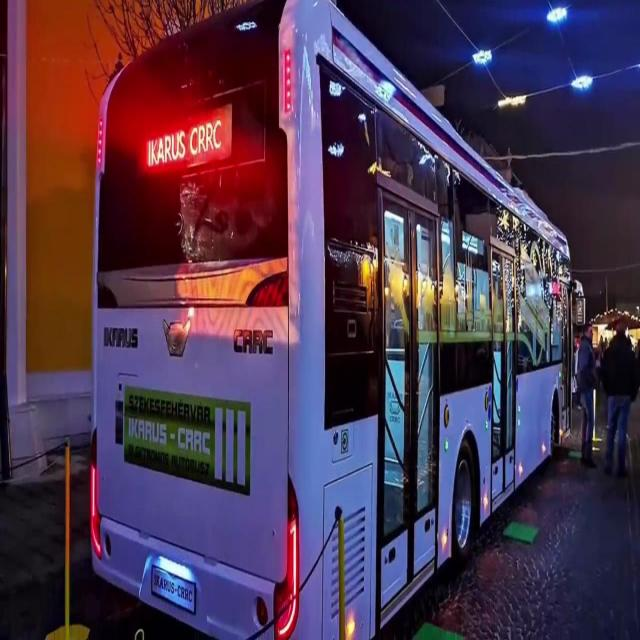bus: (76, 1, 580, 640)
